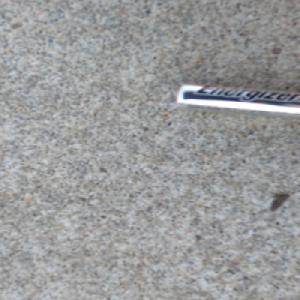Battery: (173, 82, 300, 121)
